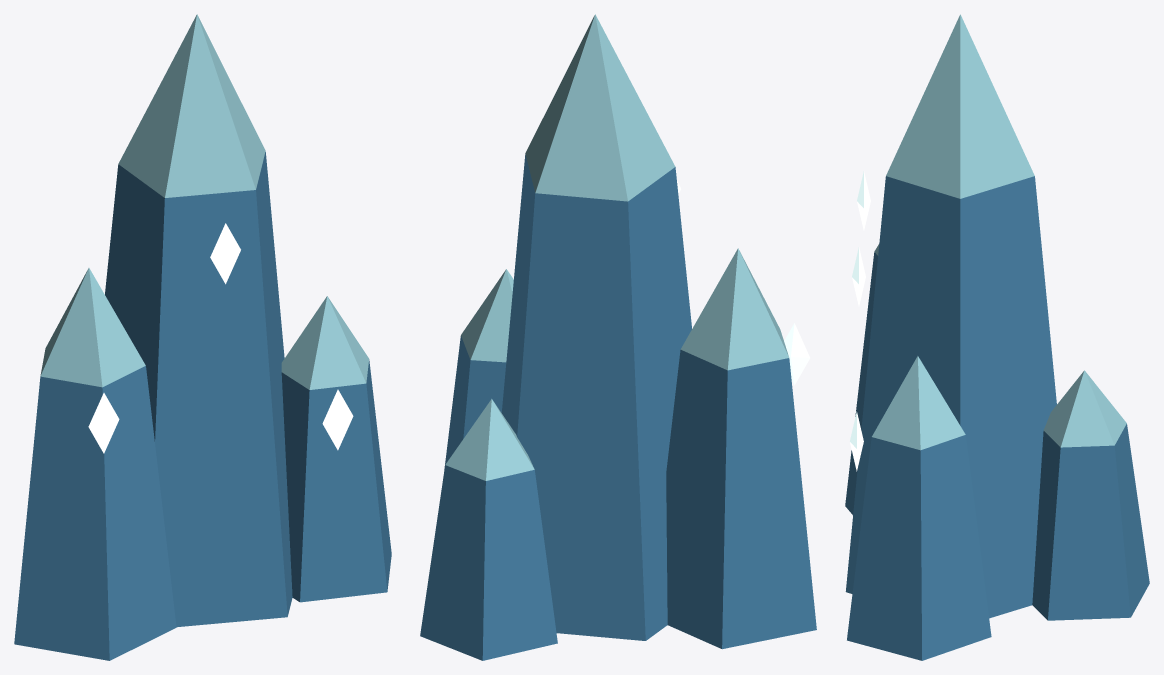
File: ice-cluster.glb
3 renders of one model, left to right at view 1: azimuth 30°, elevation 25°; view 2: azimuth 150°, elevation 25°; view 3: azimuth 270°, elevation 25°, orthographic. The views are drawn at different scales.
Parts seen in each view (by area): view 1: ice-cluster; view 2: ice-cluster; view 3: ice-cluster.
Part boxes in pixels (x1,y1,x2,y2): ice-cluster: (14,14,391,660); ice-cluster: (420,14,816,660); ice-cluster: (845,14,1149,660).
Size of the model in its own units: 2.42 by 3.5 by 1.72.
